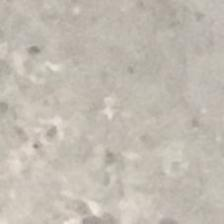Non_Crack: (6, 6, 209, 202)
